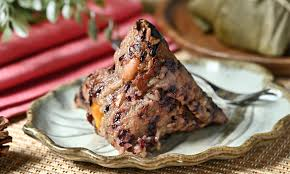zongzi: (75, 19, 226, 156), (76, 19, 226, 155)
